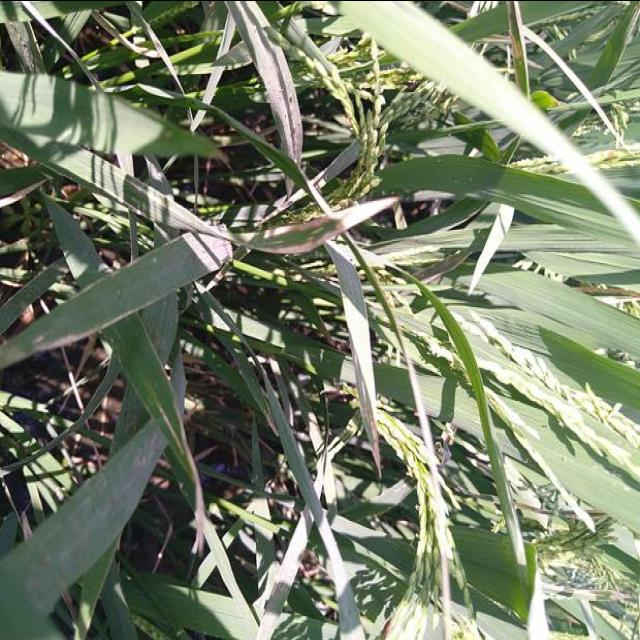Leaf Blight: (0, 232, 231, 373), (142, 188, 397, 254), (121, 356, 205, 528), (323, 241, 379, 479), (222, 0, 302, 163), (255, 512, 307, 640)
